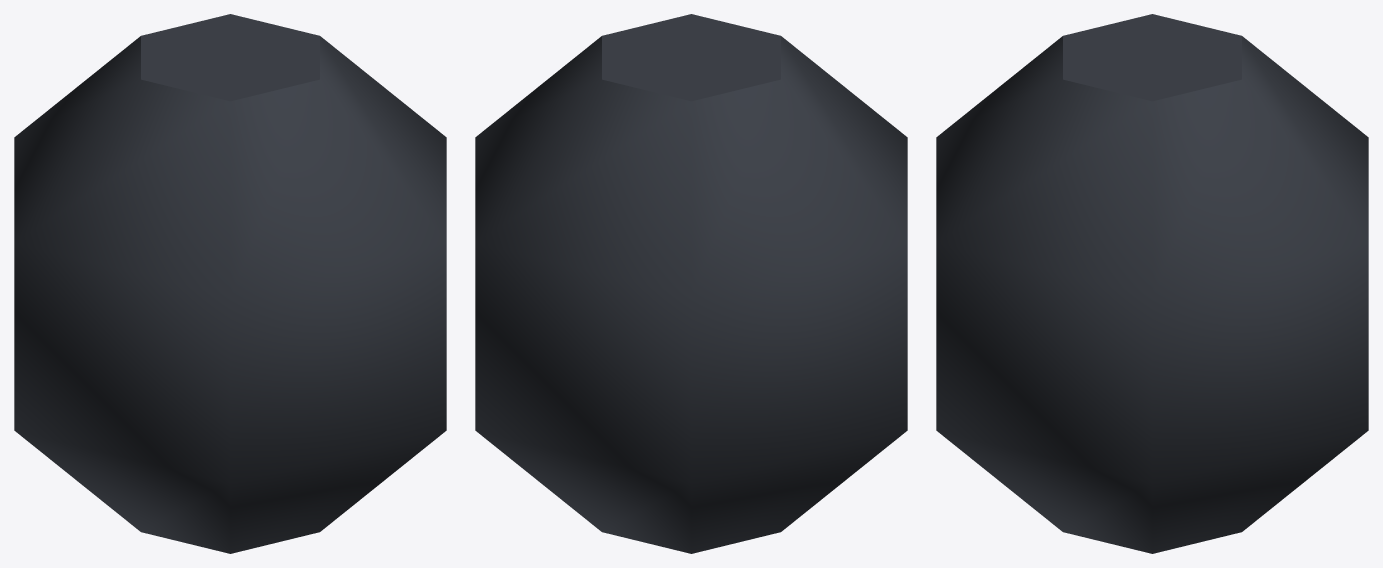
The model's file is SM_Prop_Cannonball_LQ.glb.
3 views of the same model, side by side, from view 1: azimuth 30°, elevation 25°; view 2: azimuth 150°, elevation 25°; view 3: azimuth 270°, elevation 25° (orthographic).
Parts seen in each view (by area): view 1: SM_Prop_Cannonball_LQ; view 2: SM_Prop_Cannonball_LQ; view 3: SM_Prop_Cannonball_LQ.
Part boxes in pixels (bbox=[...]): SM_Prop_Cannonball_LQ: bbox=[14, 14, 446, 553]; SM_Prop_Cannonball_LQ: bbox=[475, 14, 907, 553]; SM_Prop_Cannonball_LQ: bbox=[936, 14, 1368, 553].
Bounding box in the file's own units: 0.2587 × 0.2587 × 0.224.
1 material, 1 textured.
